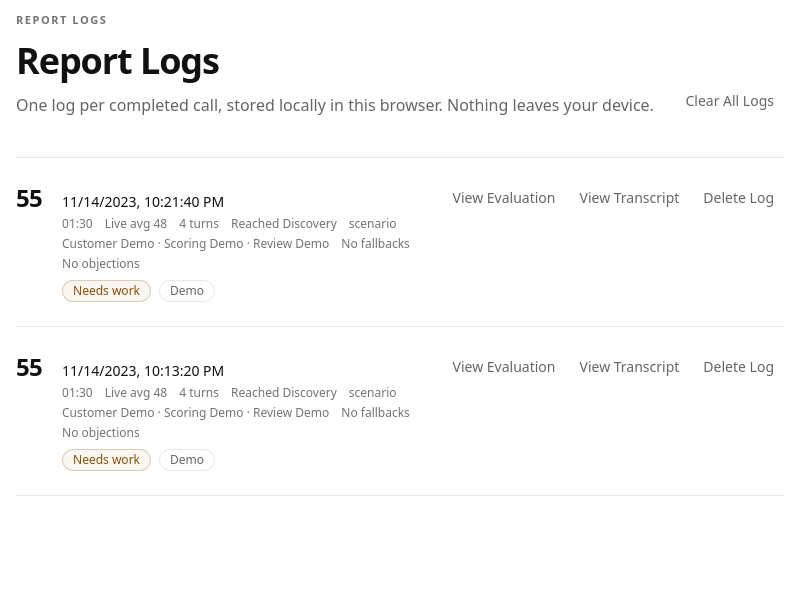
Test: SessionHistory — deletion › clears all sessions after confirmation
The width and height of the screenshot is (801, 613).
Click the button "Clear All Logs" at (730, 100), box [675, 84, 784, 116]
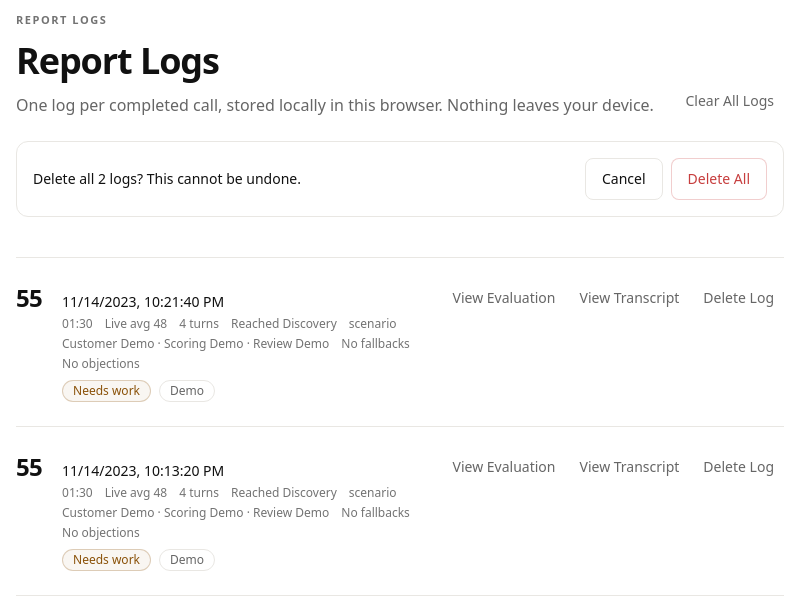
Click the button "Delete All" at (719, 178), box [671, 158, 767, 200]
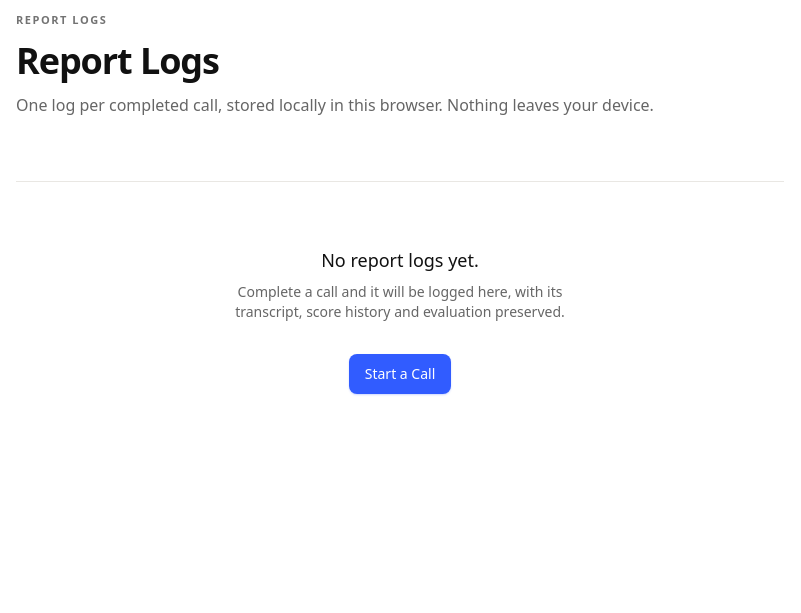
Expected: the text "No report logs yet." is shown, [321, 248, 479, 272]
